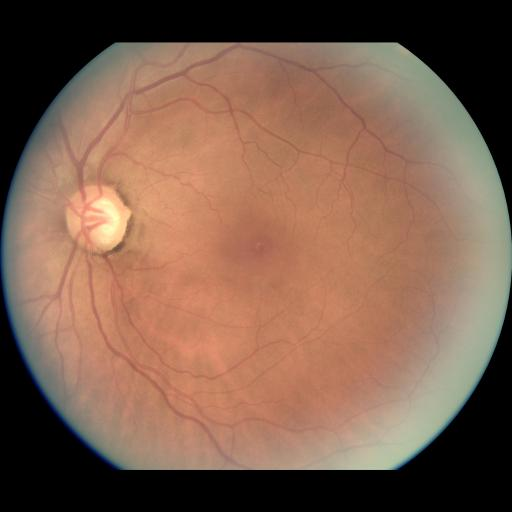Optic Cup: (82, 199, 120, 239)
Optic Disc: (66, 185, 133, 254)
